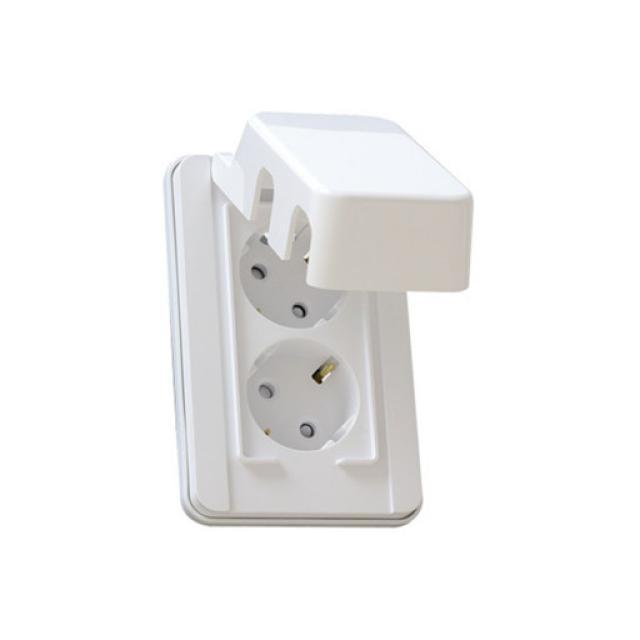typeb: (125, 108, 468, 561)
